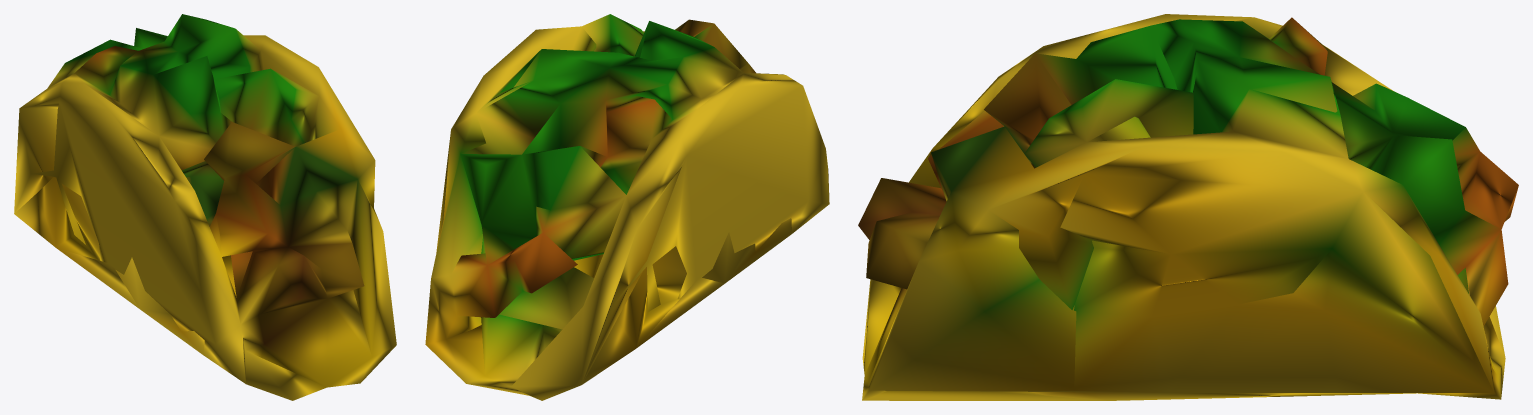
The model's file is gen3d-taco-lod1.glb.
3 views of the same model, side by side, from view 1: azimuth 30°, elevation 25°; view 2: azimuth 150°, elevation 25°; view 3: azimuth 270°, elevation 25° (orthographic). The views are drawn at different scales.
Visible parts, largest first — view 1: part_0; view 2: part_0; view 3: part_0.
Part boxes in pixels (x1,y1,x2,y2): part_0: (14, 14, 396, 400); part_0: (425, 14, 829, 400); part_0: (858, 14, 1518, 400).
Bounding box in the file's own units: 0.7915 × 0.9839 × 1.68.
